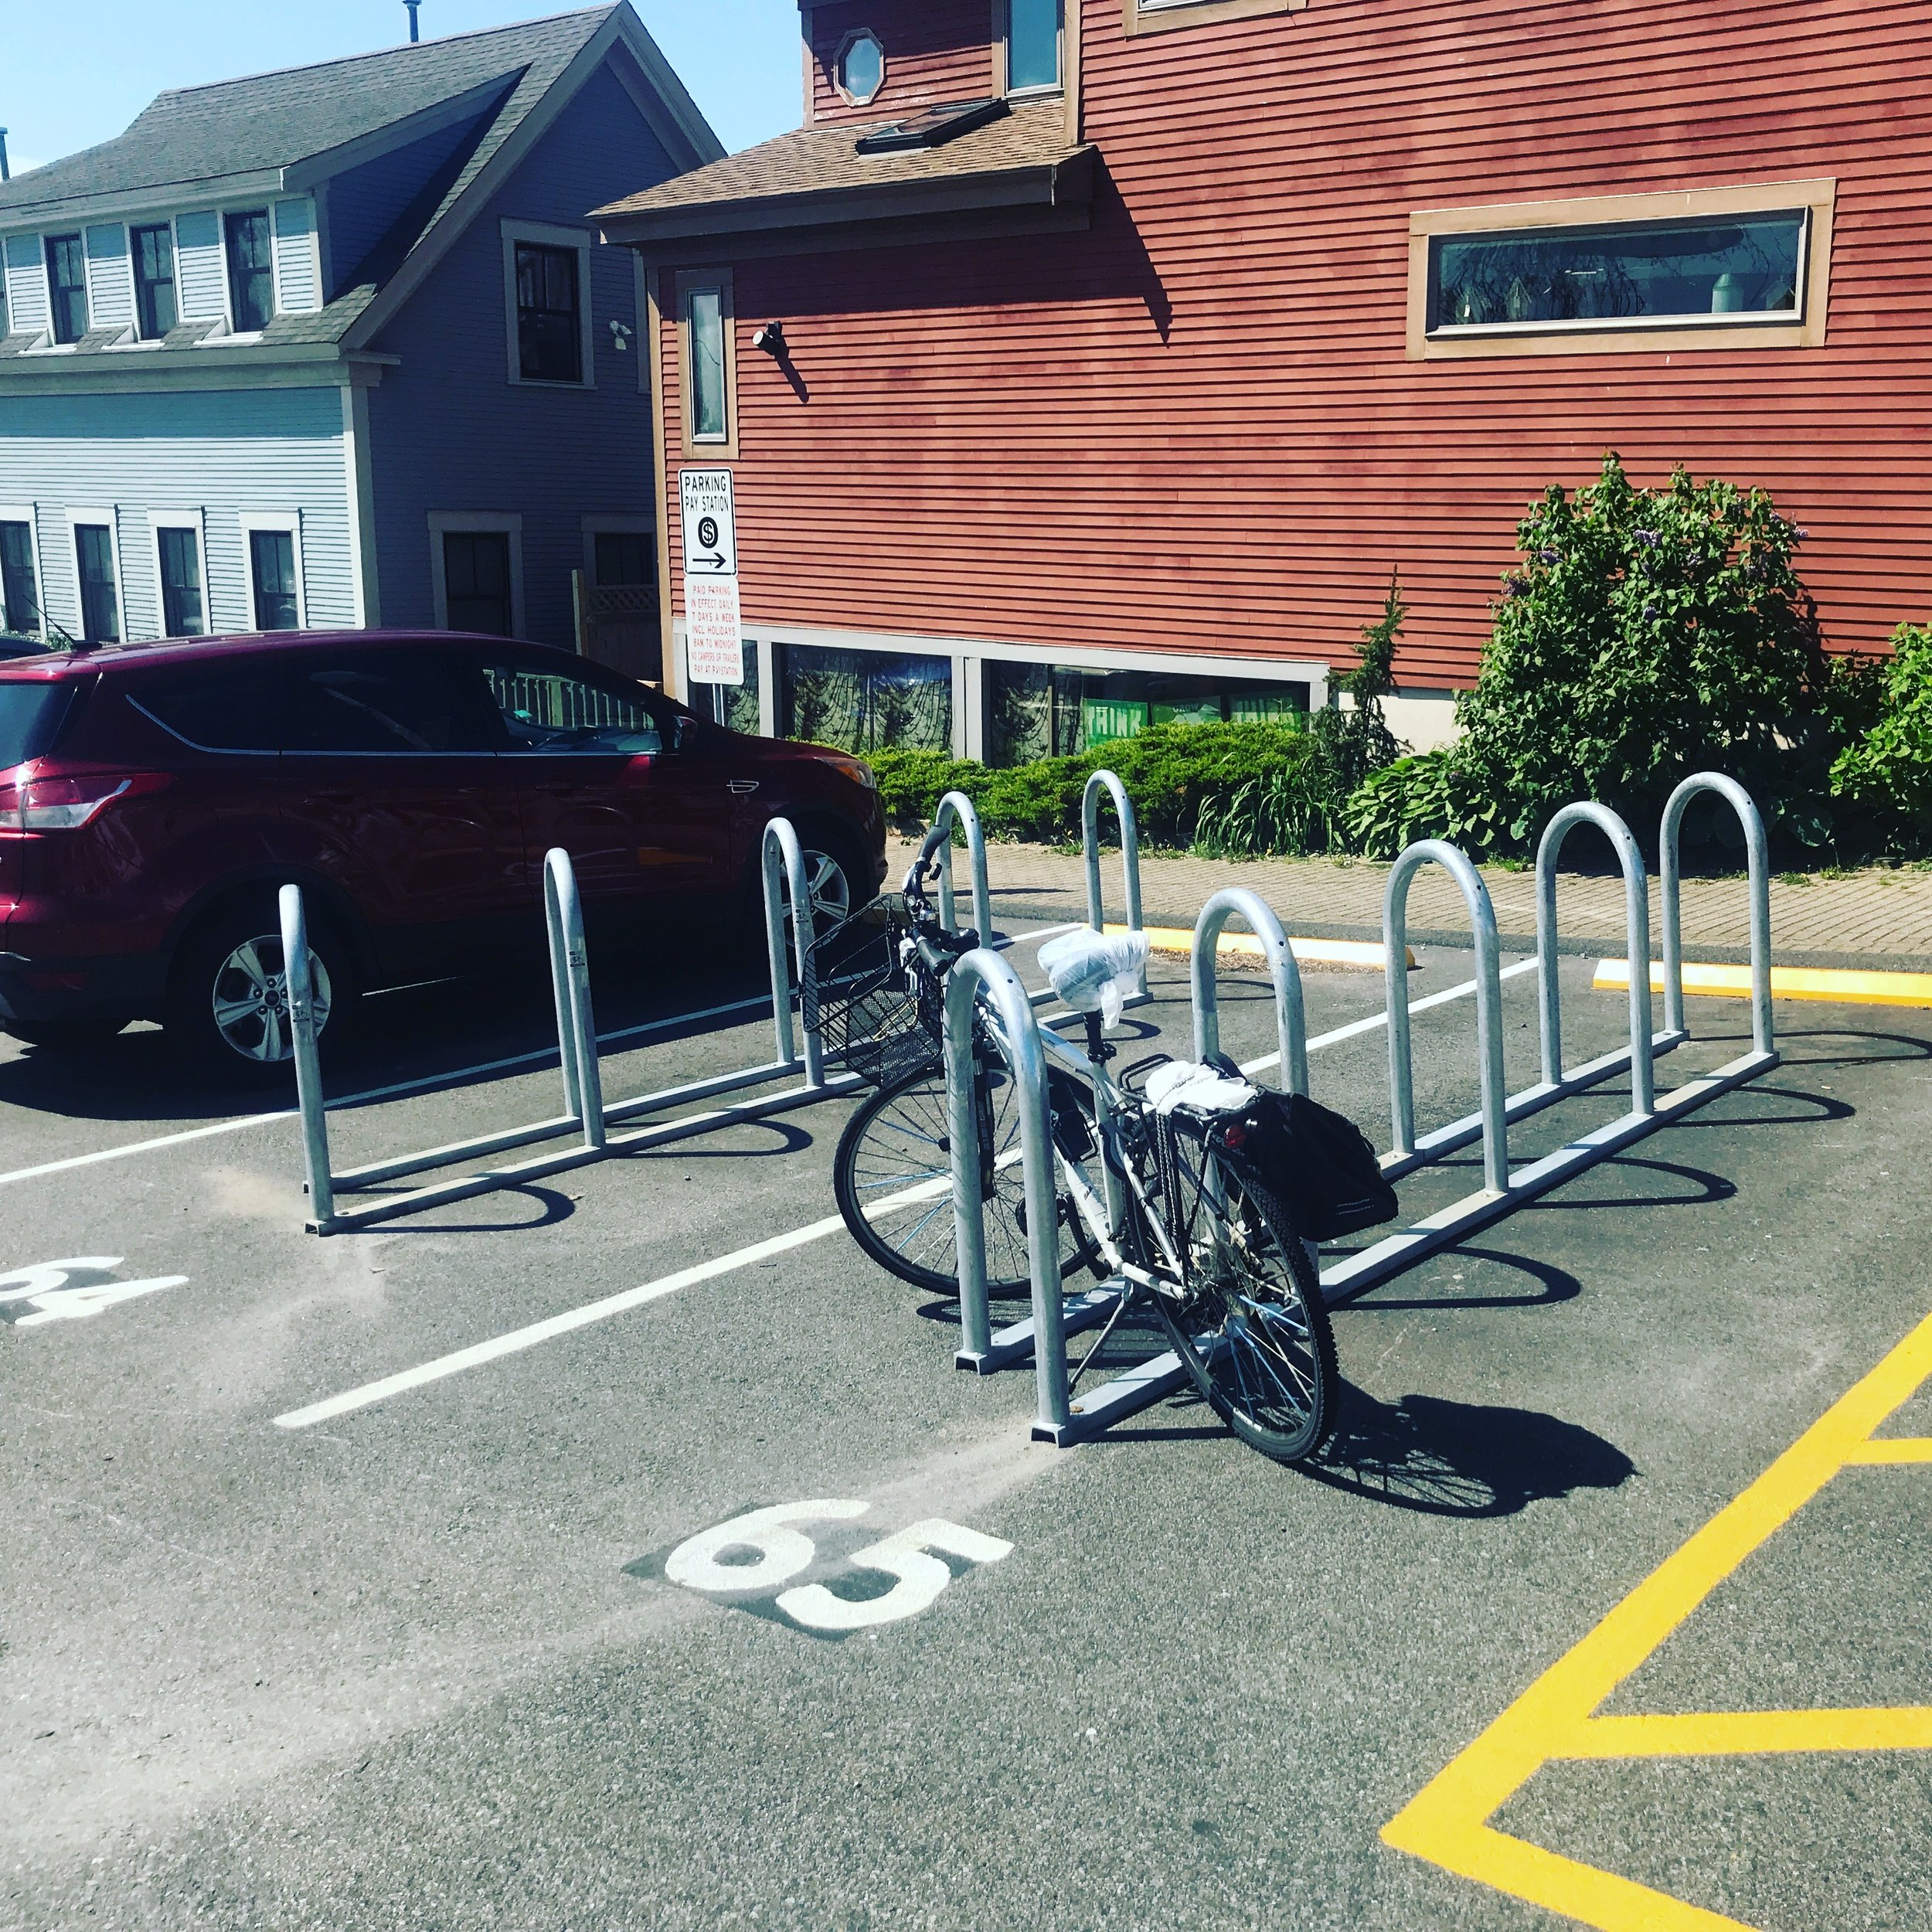bike: (778, 858, 1414, 1500)
